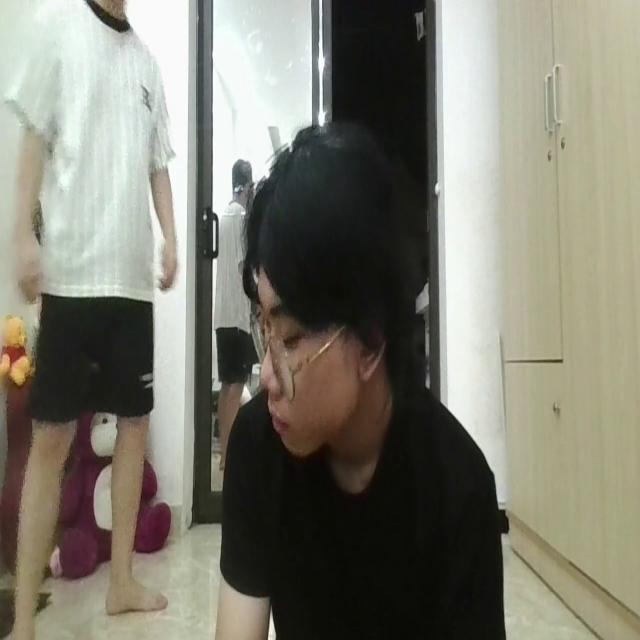extra_person: (10, 0, 179, 617)
student: (211, 117, 507, 640)
